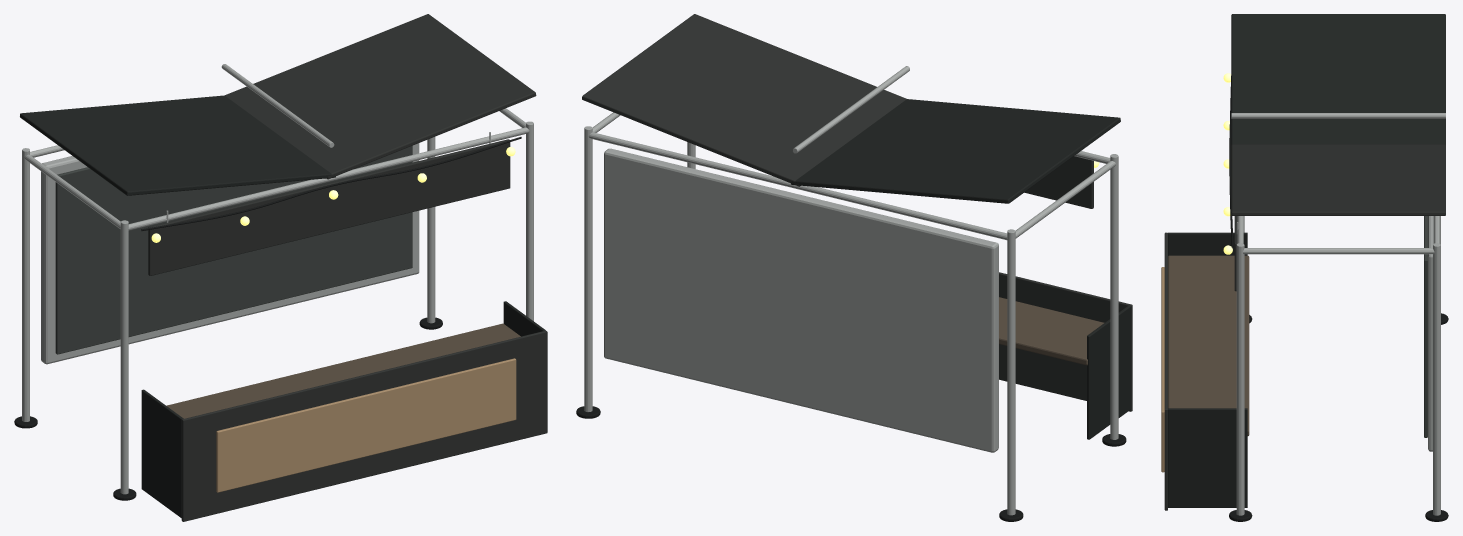
The model's file is help-desk.glb.
3 renders of one model, left to right at view 1: azimuth 30°, elevation 25°; view 2: azimuth 150°, elevation 25°; view 3: azimuth 270°, elevation 25°, orthographic. The views are drawn at different scales.
Visible parts, largest first — view 1: DISPLAY_back_panel, CANOPY_right, TABLE_cloth_front, CANOPY_left, SIGN_bottom_cardboard, SIGN_top_banner, DISPLAY_back_frame, TABLE_top, TABLE_cloth_left, FRAME_front_rail, FRAME_pole_-3.2_-1.65, FRAME_pole_-3.2_1.05 (+6 smaller); view 2: DISPLAY_back_frame, CANOPY_right, CANOPY_left, TABLE_cloth_front, TABLE_cloth_left, TABLE_top, FRAME_back_rail, FRAME_pole_-3.2_1.05, FRAME_pole_3.2_1.05, FRAME_pole_-3.2_-1.65, SIGN_top_banner, CANOPY_ridge (+1 smaller); view 3: CANOPY_left, CANOPY_right, TABLE_top, TABLE_cloth_right, FRAME_pole_3.2_-1.65, FRAME_pole_3.2_1.05, TABLE_cloth_left, FRAME_right_rail, CANOPY_ridge, DISPLAY_back_frame, TABLE_cloth_front, DISPLAY_back_panel (+2 smaller).
Part boxes in pixels (box(x1,y1,x2,y2)): DISPLAY_back_panel: box(55, 145, 412, 354); CANOPY_right: box(225, 14, 536, 179); TABLE_cloth_front: box(181, 330, 547, 521); CANOPY_left: box(20, 95, 335, 195); SIGN_bottom_cardboard: box(216, 358, 516, 492); SIGN_top_banner: box(148, 139, 510, 275); DISPLAY_back_frame: box(41, 143, 419, 364); TABLE_top: box(166, 323, 520, 418); TABLE_cloth_left: box(141, 389, 183, 517); FRAME_front_rail: box(128, 127, 529, 230); FRAME_pole_-3.2_-1.65: box(120, 220, 128, 494); FRAME_pole_-3.2_1.05: box(22, 148, 29, 421); DISPLAY_back_frame: box(604, 148, 998, 452); CANOPY_right: box(582, 14, 906, 186); CANOPY_left: box(791, 99, 1120, 203); TABLE_cloth_front: box(999, 272, 1132, 411); TABLE_cloth_left: box(1087, 305, 1131, 439); TABLE_top: box(999, 297, 1104, 365); FRAME_back_rail: box(589, 132, 1007, 240); FRAME_pole_-3.2_1.05: box(1007, 229, 1015, 515); FRAME_pole_3.2_1.05: box(584, 126, 592, 411); FRAME_pole_-3.2_-1.65: box(1110, 154, 1118, 439); SIGN_top_banner: box(1024, 156, 1093, 208); CANOPY_ridge: box(792, 66, 909, 153); CANOPY_left: box(1231, 14, 1445, 144); CANOPY_right: box(1231, 144, 1445, 215); TABLE_top: box(1168, 255, 1249, 435); TABLE_cloth_right: box(1168, 408, 1247, 507); FRAME_pole_3.2_-1.65: box(1236, 243, 1244, 515); FRAME_pole_3.2_1.05: box(1433, 243, 1440, 515); TABLE_cloth_left: box(1168, 232, 1247, 255); FRAME_right_rail: box(1243, 248, 1434, 254); CANOPY_ridge: box(1231, 113, 1445, 118); DISPLAY_back_frame: box(1428, 216, 1433, 451); TABLE_cloth_front: box(1164, 232, 1167, 510); DISPLAY_back_panel: box(1424, 216, 1427, 437).
Bounding box in the file's own units: 6.72 × 4.7 × 3.95.
